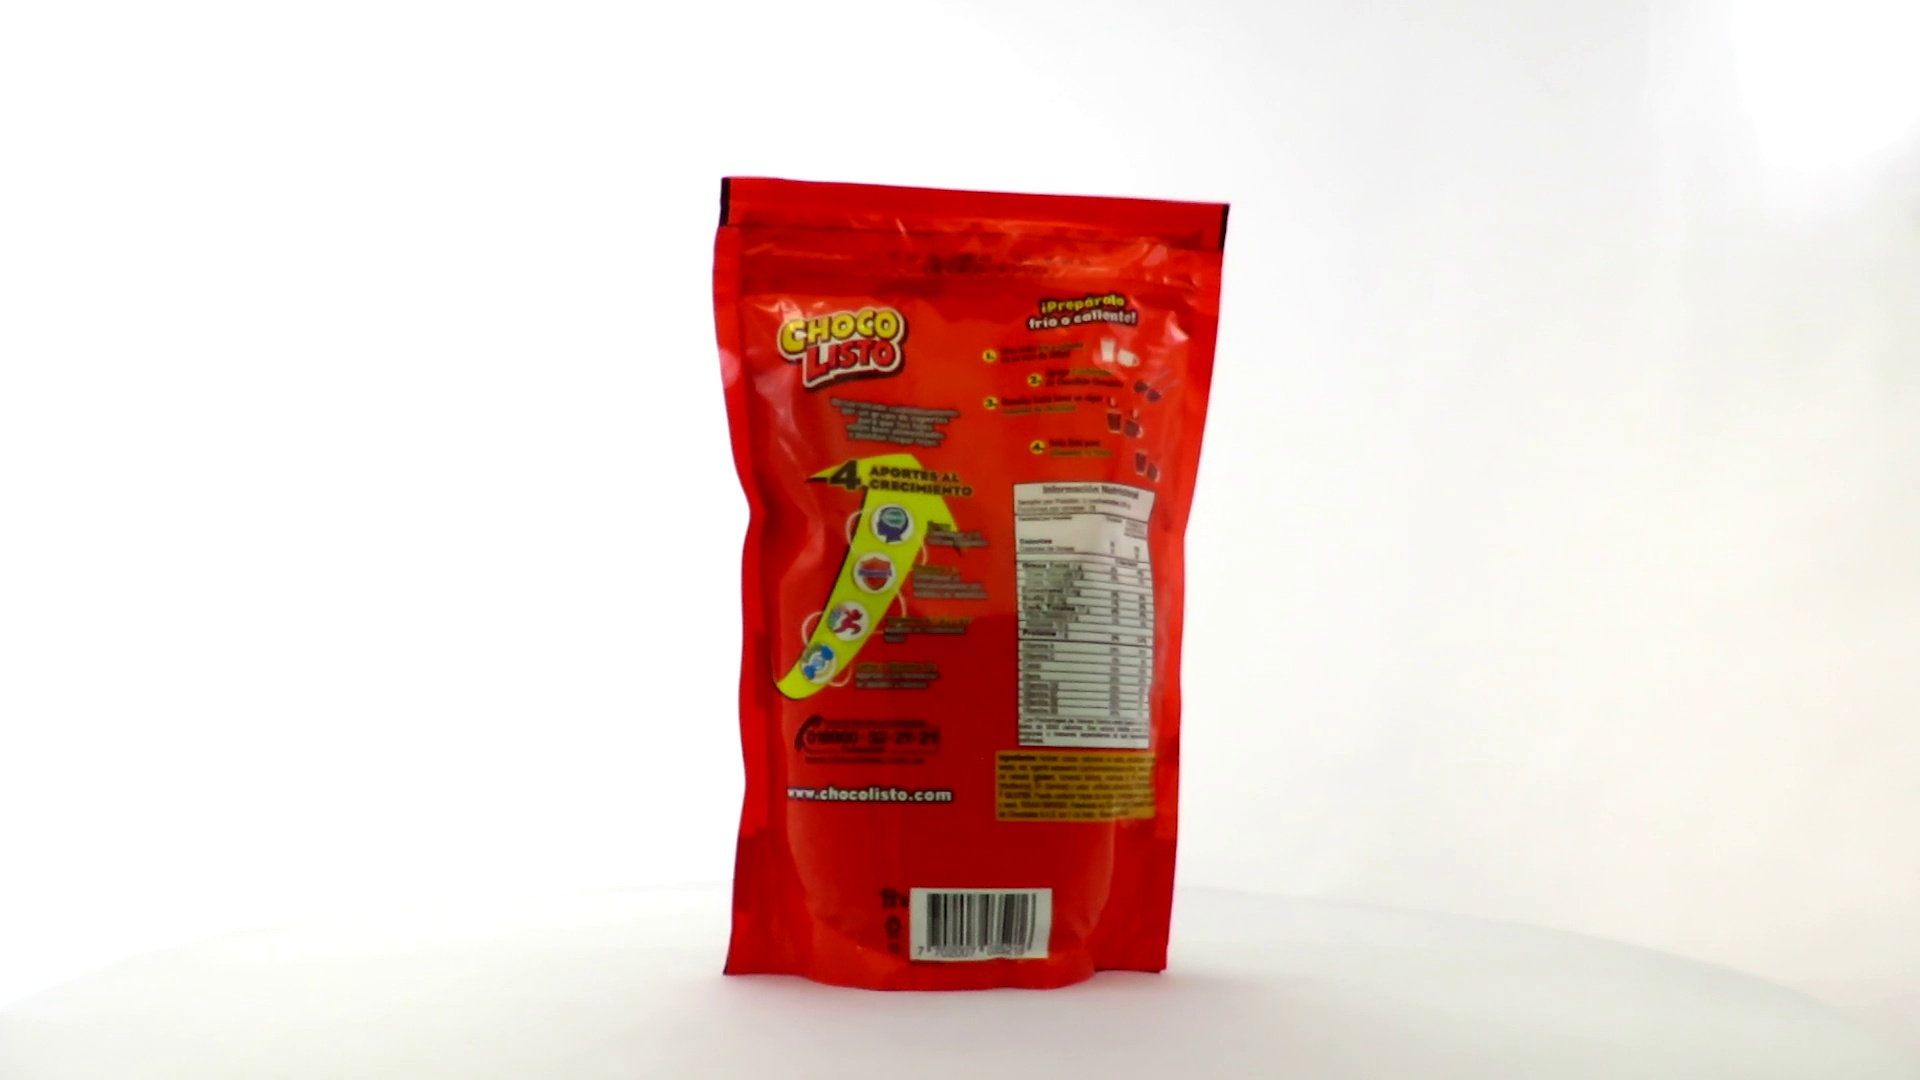COL0170103DYP36000: (707, 171, 1236, 998)
